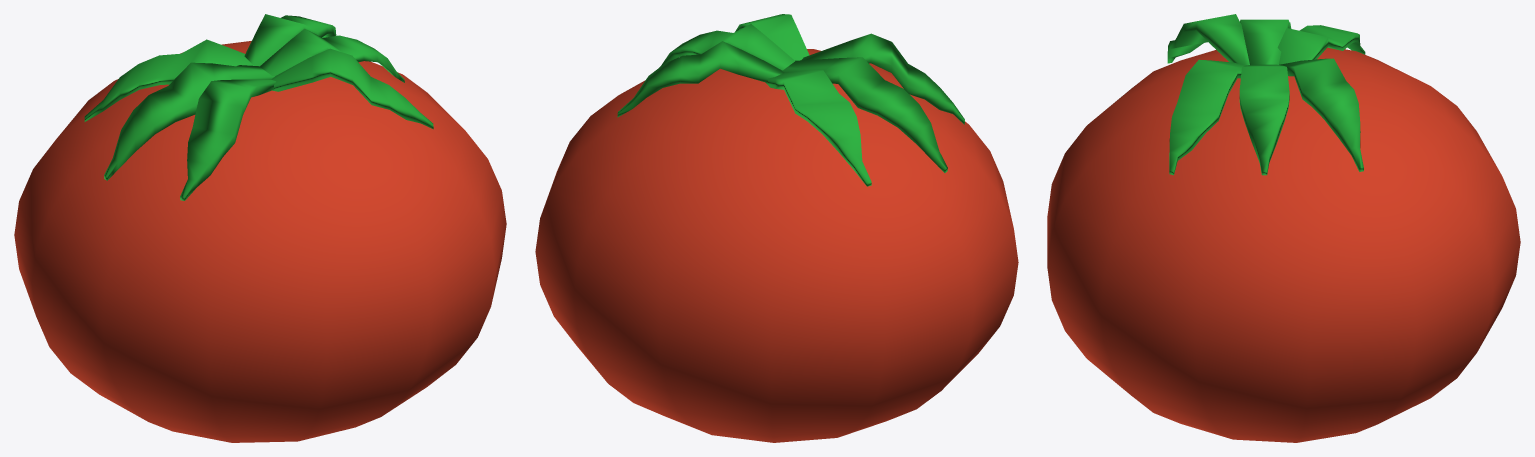
File: tomate.fbx
The picture shows the model from 3 angles, left to right: view 1: azimuth 30°, elevation 25°; view 2: azimuth 150°, elevation 25°; view 3: azimuth 270°, elevation 25°; orthographic projection.
Visible parts, largest first — view 1: tomato, hojas, hoja; view 2: tomato, hojas, hoja; view 3: tomato, hojas, hoja.
Boxes of the visible parts, x1=… form: tomato: x1=14, y1=41, x2=506, y2=442; hojas: x1=84, y1=14, x2=433, y2=200; hoja: x1=104, y1=62, x2=274, y2=180; tomato: x1=535, y1=49, x2=1018, y2=442; hojas: x1=617, y1=14, x2=964, y2=186; hoja: x1=782, y1=57, x2=947, y2=172; tomato: x1=1047, y1=47, x2=1520, y2=442; hojas: x1=1167, y1=14, x2=1365, y2=175; hoja: x1=1240, y1=19, x2=1291, y2=64.
Size of the model in its own units: 105 by 87.07 by 101.
